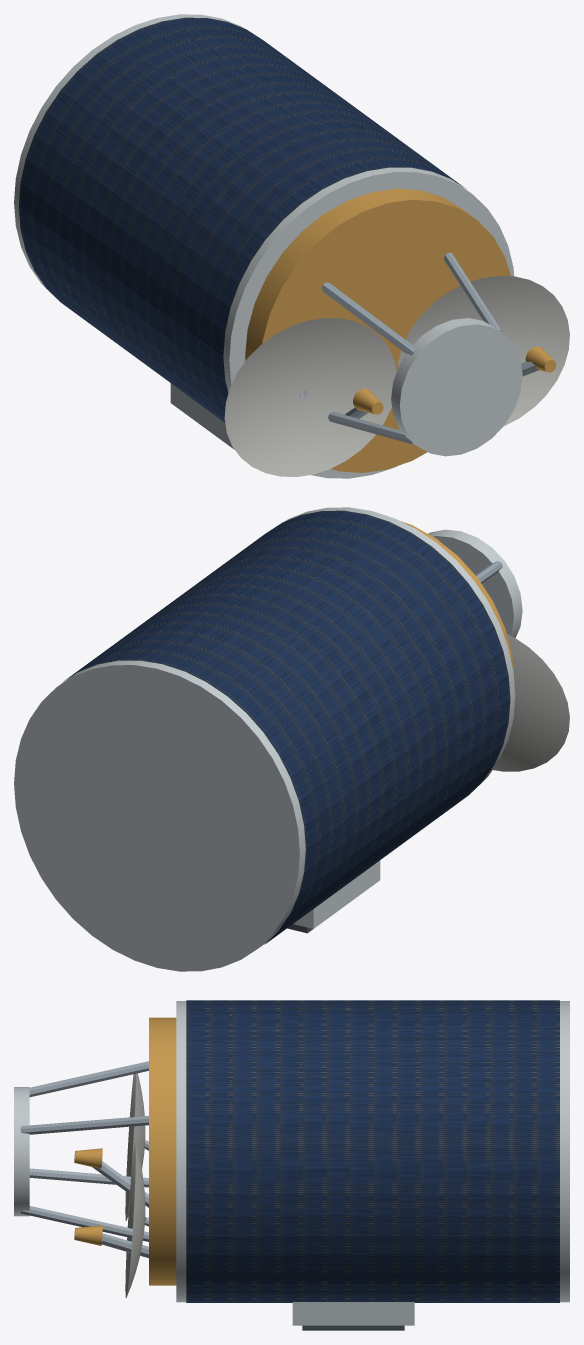
File: ref-hs-378-12677.glb
3 views of the same model, one above another, from view 1: azimuth 30°, elevation 25°; view 2: azimuth 150°, elevation 25°; view 3: azimuth 270°, elevation 25° (orthographic). The views are drawn at different scales.
Parts seen in each view (by area): view 1: Body-mounted solar cells, Deck-mounted reflector (×2), Despun equipment deck, Antenna tower platform, Solar drum core, Antenna tower leg (×3), Radiometer window surround; view 2: Body-mounted solar cells, Solar drum core, Deck-mounted reflector, Antenna tower platform, Radiometer window surround, Despun equipment deck; view 3: Body-mounted solar cells, Despun equipment deck, Solar drum core, Antenna tower leg (×4), Deck-mounted reflector (×2), Radiometer window surround, Antenna tower platform, Feed horn (×2), Offset feed boom (×2), Radiometer viewing port.
Boxes of the visible parts, left/top/right/bottom form: Body-mounted solar cells: left=18, top=17, right=465, bottom=422; Deck-mounted reflector (×2): left=224, top=276, right=569, bottom=476; Despun equipment deck: left=245, top=188, right=510, bottom=472; Antenna tower platform: left=391, top=318, right=522, bottom=456; Solar drum core: left=14, top=14, right=513, bottom=478; Antenna tower leg (×3): left=321, top=252, right=501, bottom=444; Radiometer window surround: left=170, top=383, right=234, bottom=449; Body-mounted solar cells: left=63, top=510, right=510, bottom=944; Solar drum core: left=14, top=507, right=515, bottom=971; Deck-mounted reflector: left=493, top=634, right=569, bottom=771; Antenna tower platform: left=428, top=529, right=522, bottom=637; Radiometer window surround: left=293, top=860, right=380, bottom=928; Despun equipment deck: left=400, top=521, right=514, bottom=681; Body-mounted solar cells: left=186, top=1000, right=559, bottom=1302; Despun equipment deck: left=149, top=1017, right=176, bottom=1285; Solar drum core: left=176, top=1001, right=569, bottom=1302; Antenna tower leg (×4): left=20, top=1061, right=148, bottom=1241; Deck-mounted reflector (×2): left=125, top=1073, right=145, bottom=1297; Radiometer window surround: left=292, top=1302, right=414, bottom=1325; Antenna tower platform: left=14, top=1087, right=29, bottom=1216; Feed horn (×2): left=74, top=1148, right=102, bottom=1245; Offset feed boom (×2): left=92, top=1161, right=148, bottom=1258; Radiometer viewing port: left=302, top=1325, right=404, bottom=1330.
Size of the model in its own units: 2.66 by 2.33 by 4.05.
Materials: 6 (1 with a texture image).
